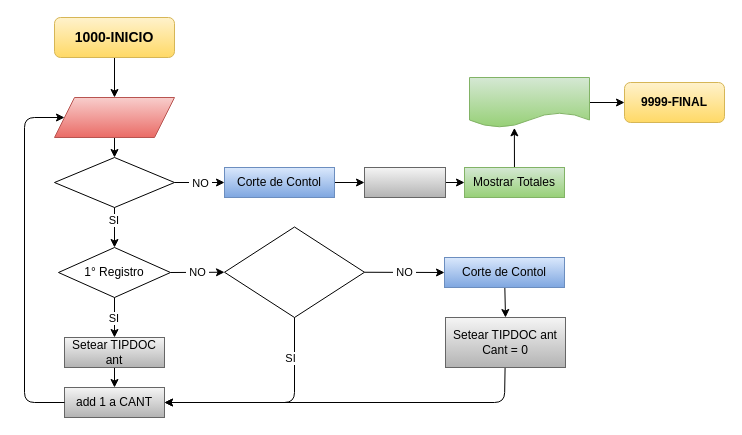
Some shapes in this 742 by 435 pixel diagram are drawn without their labels. The shapes that lost their labels are listed below. From the top down, each one's box as (x1, y1, x2, y2) in pixels, then its label:
(54, 96, 174, 138): Leer Registro
(468, 76, 590, 128): Imprimir archivo de salida
(54, 156, 174, 208): Existe
(364, 166, 446, 198): Acumular Subtotales
(224, 226, 364, 318): TIPDOC act = TIPDOC ant
